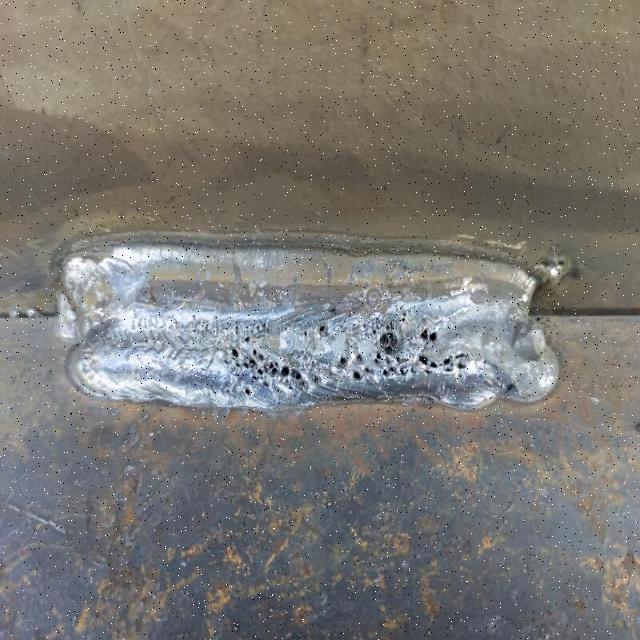Porosity: (60, 253, 561, 417)
